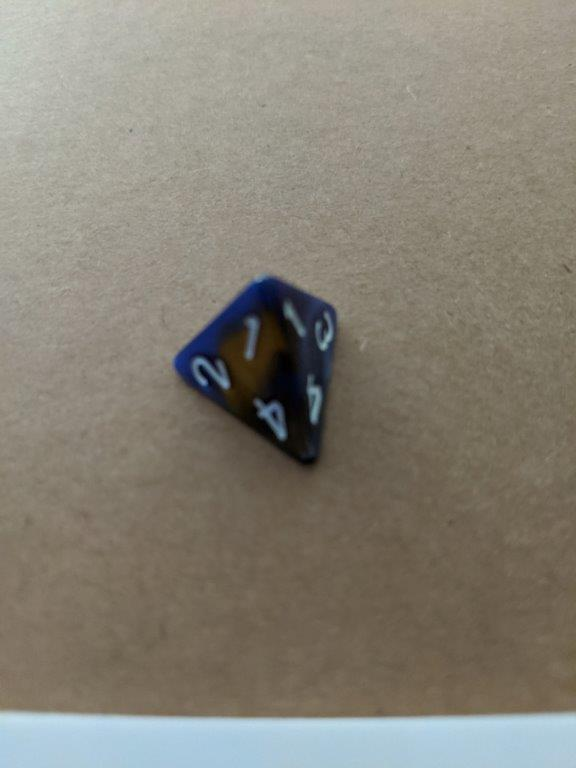d4-1: (170, 271, 342, 477)
